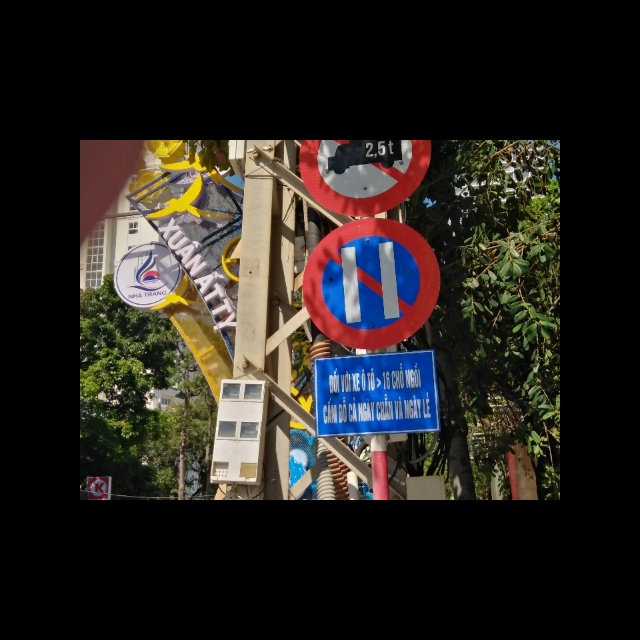Cấm đỗ xe ngày chẵn: (296, 217, 443, 352)
